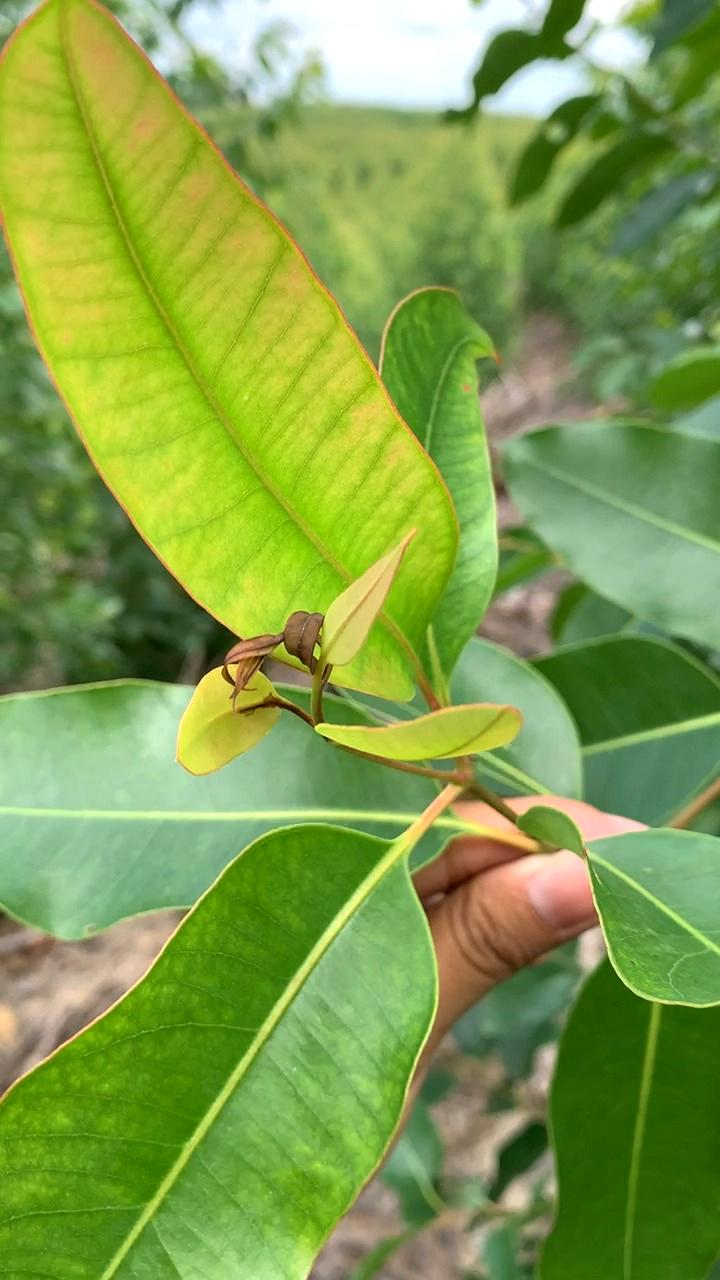Helopeltis-Withered Sprout: (215, 606, 329, 700)
